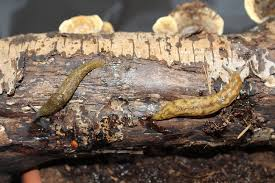slug: (28, 59, 102, 120), (153, 73, 239, 118)
